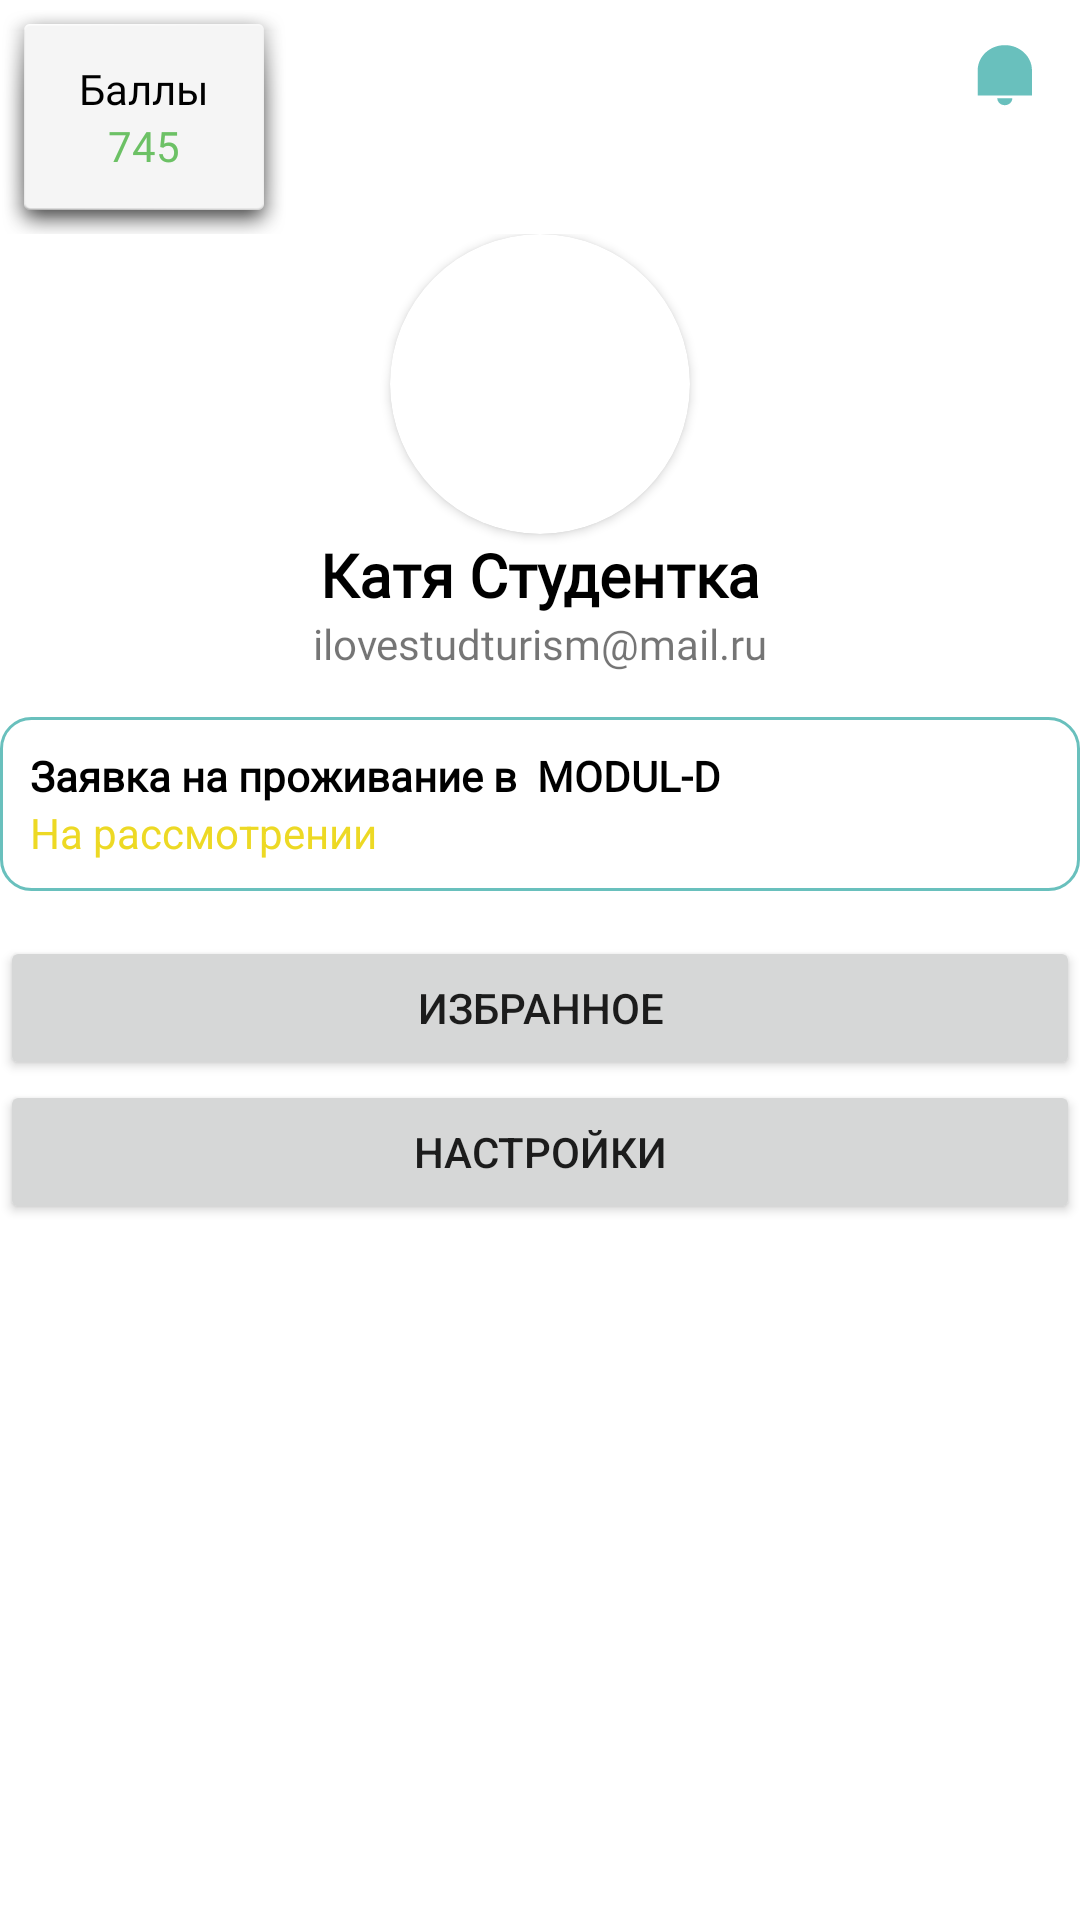

Icons on this 1080 x 1920 Android screen, each with the point to tap as (x=x, y=y):
bell: (x=1004, y=75)
